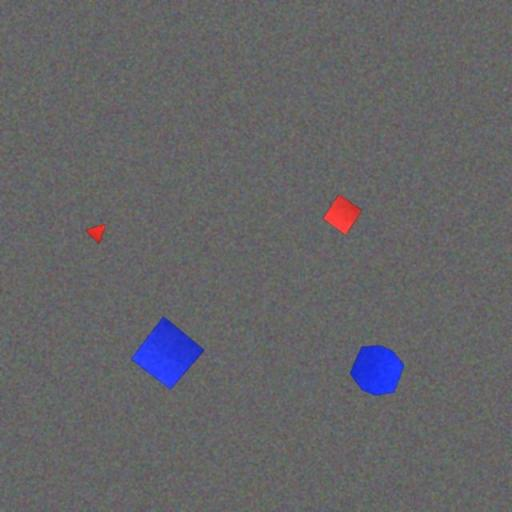BLUE_SQUARE: (130, 316, 205, 390)
RED_SQUARE: (322, 194, 362, 236)
